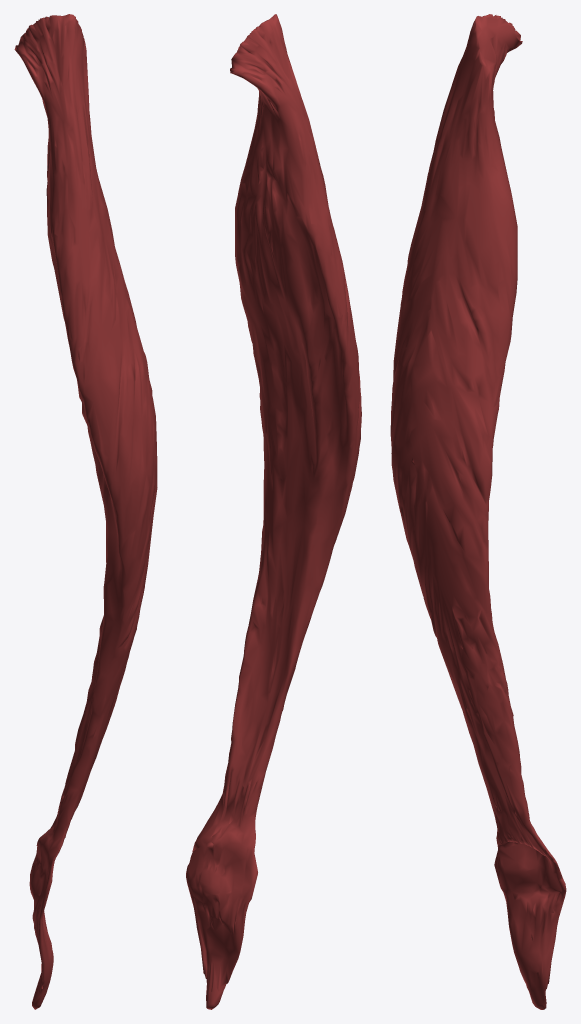
Rendered from rectus-femoris-muscle-r.glb.
3 renders of one model, left to right at view 1: azimuth 90°, elevation 25°; view 2: azimuth 150°, elevation 25°; view 3: azimuth 330°, elevation 25°, orthographic. The views are drawn at different scales.
Visible parts, largest first — view 1: Rectus femoris muscle.r; view 2: Rectus femoris muscle.r; view 3: Rectus femoris muscle.r.
Boxes of the visible parts, box(x1,y1,x2,y2) form: Rectus femoris muscle.r: box(14, 14, 157, 1009); Rectus femoris muscle.r: box(186, 14, 361, 1009); Rectus femoris muscle.r: box(390, 14, 566, 1009).
Size of the model in its own units: 0.0816 by 0.5453 by 0.0694.
